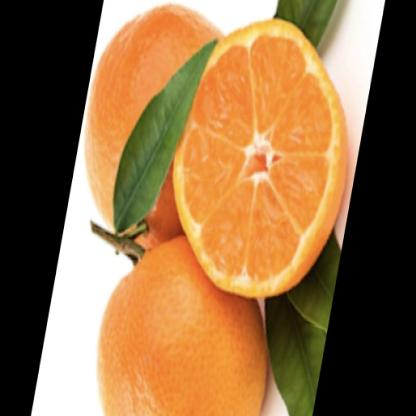fresh: (82, 1, 354, 416)
